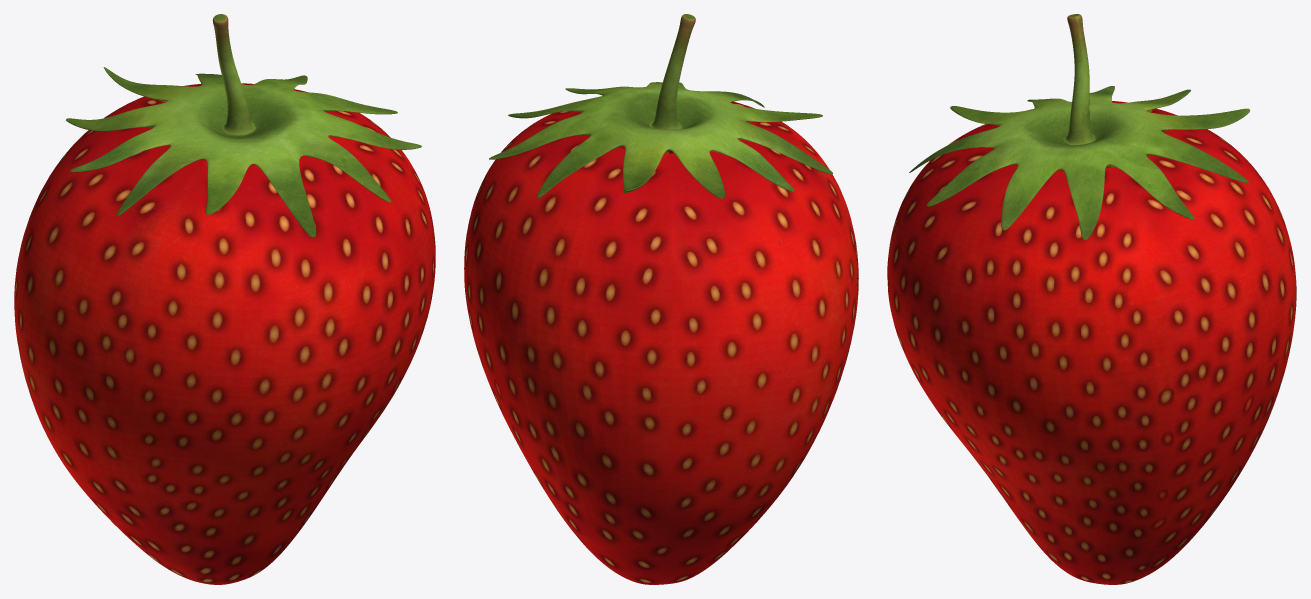
File: fresa.glb
The picture shows the model from 3 angles, left to right: view 1: azimuth 30°, elevation 25°; view 2: azimuth 150°, elevation 25°; view 3: azimuth 270°, elevation 25°; orthographic projection. The views are drawn at different scales.
Parts seen in each view (by area): view 1: Strawberry-L3; view 2: Strawberry-L3; view 3: Strawberry-L3.
Boxes of the visible parts, x1,y1,x2,y2 form: Strawberry-L3: (14, 14, 435, 584); Strawberry-L3: (464, 14, 858, 584); Strawberry-L3: (887, 14, 1296, 584).
Size of the model in its own units: 0.7852 by 1.18 by 0.7886.
1 material, 1 textured.
